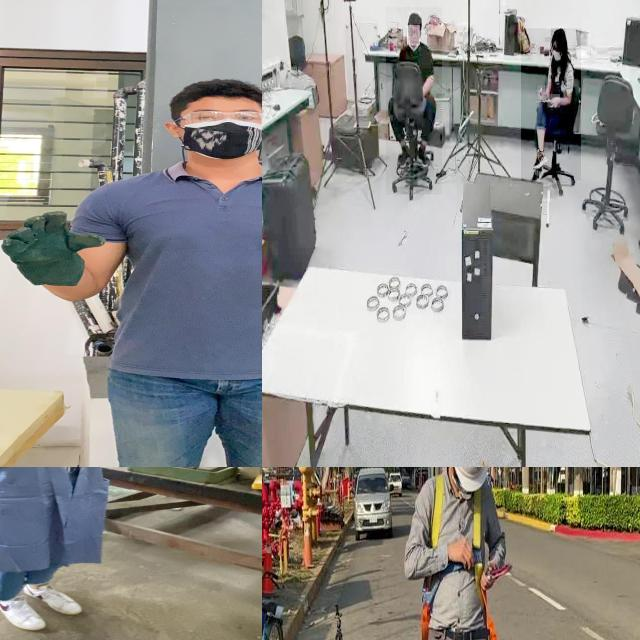Harness: (474, 562, 498, 640), (422, 603, 432, 640)
face_mask: (176, 104, 262, 158), (551, 37, 567, 61)
face_nomask: (407, 25, 421, 46)
glasses: (168, 107, 262, 127)
hand_glove: (0, 207, 110, 280)
hand_noglove: (538, 86, 550, 100), (548, 94, 560, 108)
head_nohelmet: (168, 73, 262, 110), (408, 11, 422, 25), (551, 28, 566, 38)
person: (45, 72, 262, 467), (0, 467, 166, 637), (386, 7, 442, 195), (521, 28, 581, 182)
shoes: (10, 576, 90, 617), (0, 582, 51, 635), (396, 143, 412, 171), (532, 146, 548, 173), (416, 140, 430, 169)
